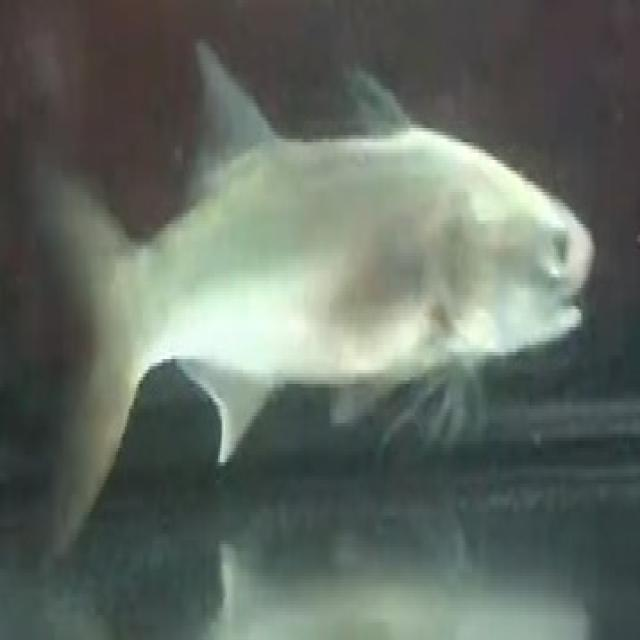Fourfinger-Threadfin: (14, 28, 616, 546)
